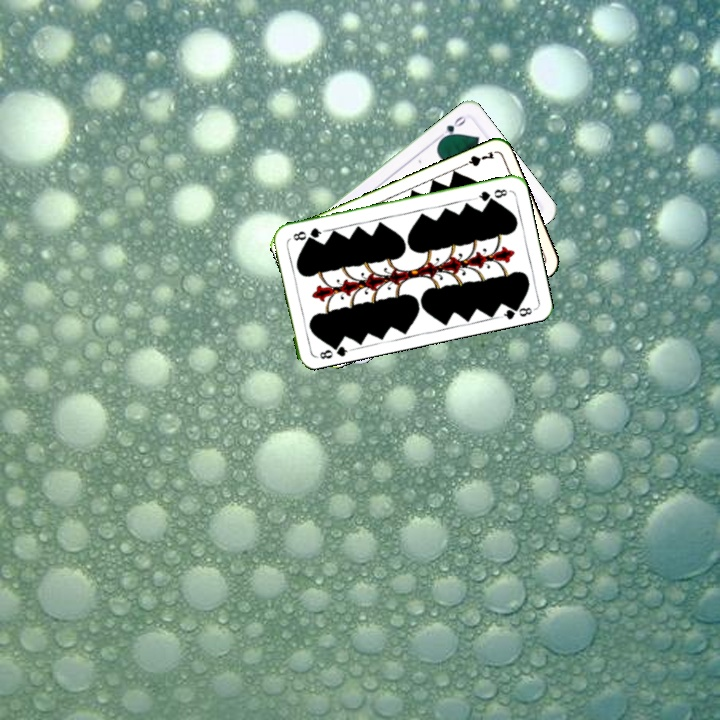G7: (457, 148, 497, 170)
G8: (312, 338, 353, 362), (471, 185, 510, 204)
GO: (434, 112, 469, 143)
